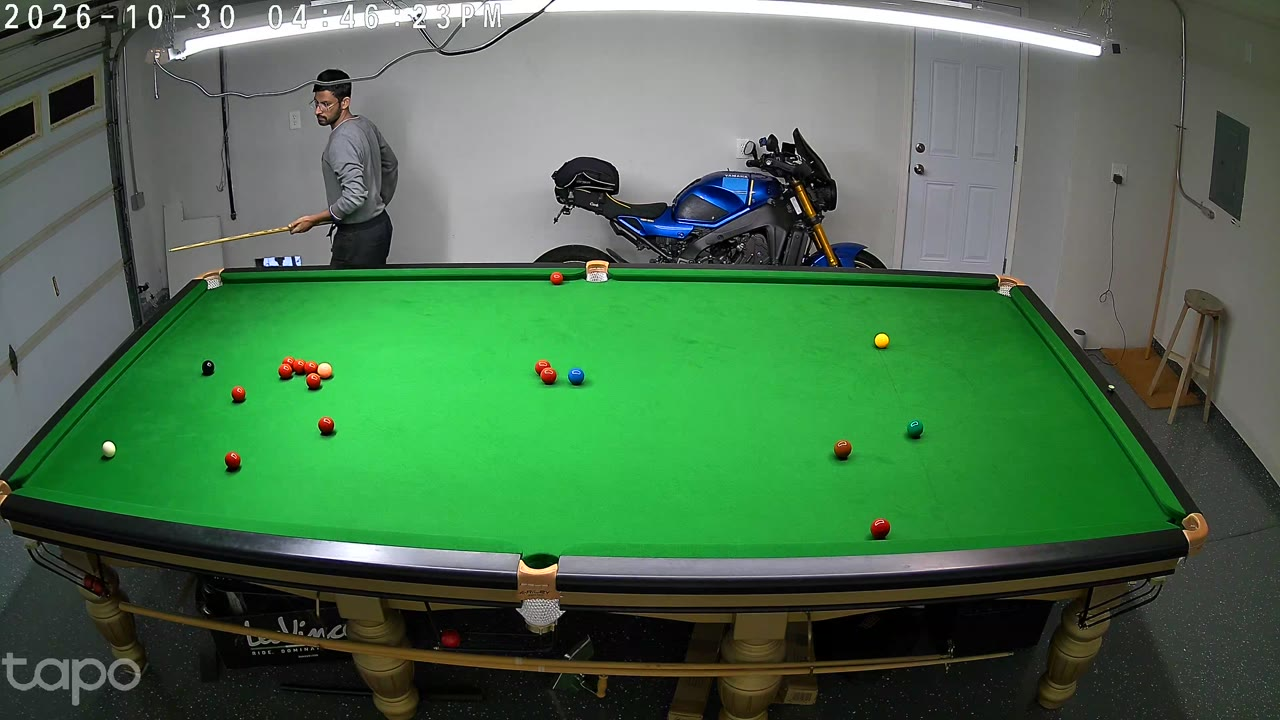black: (202, 358, 215, 378)
blue: (568, 366, 584, 388)
brown: (833, 438, 852, 464)
green: (907, 417, 923, 442)
pink: (318, 362, 332, 382)
red: (869, 515, 892, 547), (225, 449, 241, 474), (318, 415, 334, 437), (540, 360, 553, 382), (232, 385, 245, 405), (541, 366, 554, 386), (279, 362, 292, 382), (307, 371, 319, 391), (283, 356, 295, 376), (535, 360, 546, 379), (305, 360, 316, 379), (551, 271, 562, 288), (295, 358, 305, 376)
white: (102, 439, 116, 461)
yellow: (875, 332, 889, 351)
